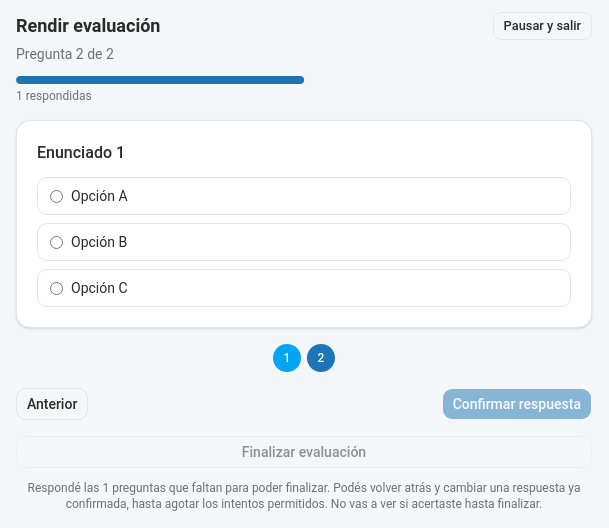
Test: RendirEvaluacion › al volver a una pregunta ya respondida, muestra la selección confirmada y permite cambiarla
This screenshot has width=609, height=528.
Expected: the text "Enunciado 1" is shown, [37,143,125,162]
Click the button "Anterior": point(52, 404) [16,388,88,420]
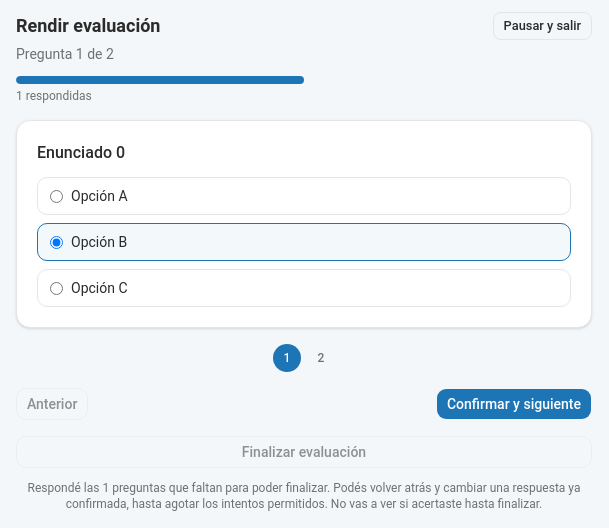
Expected: the radio button labelled "Opción B" is enabled, [50,236,63,248]
Now the text "Enunciado 0" is shown, box [37,143,125,162]
Now the radio button labelled "Opción B" is checked, box [50,236,63,248]
